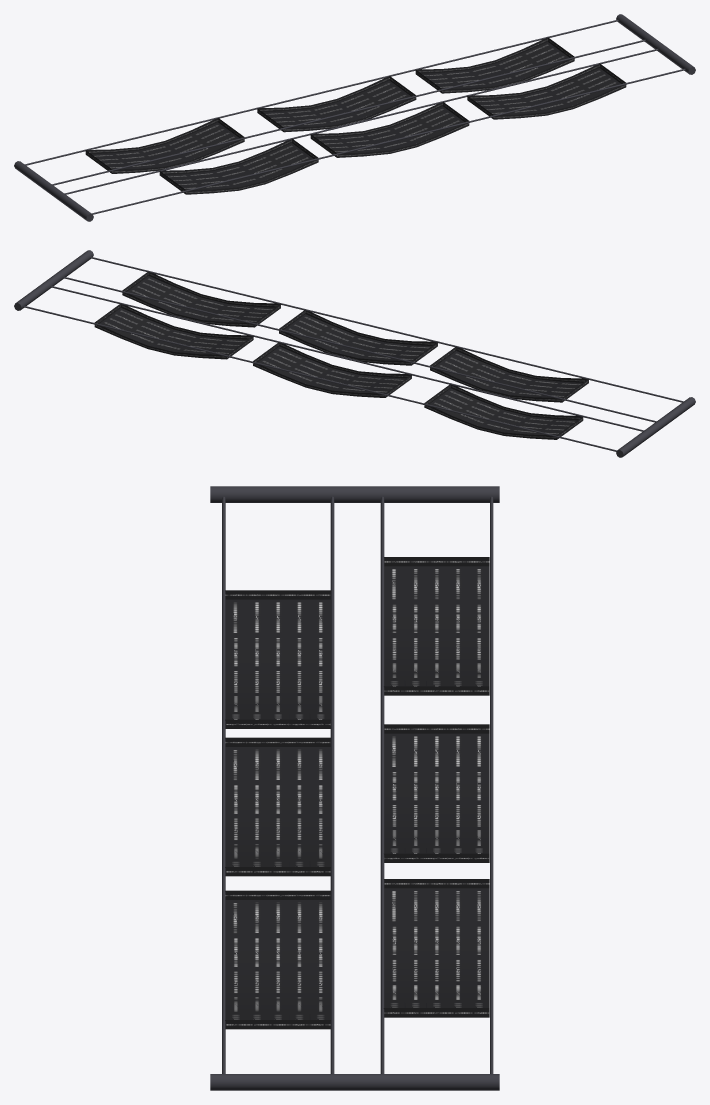
The model's file is Curtain.fbx.
The picture shows the model from 3 angles, top to bottom: view 1: azimuth 30°, elevation 25°; view 2: azimuth 150°, elevation 25°; view 3: azimuth 270°, elevation 25°; orthographic projection. The views are drawn at different scales.
Parts seen in each view (by area): view 1: curtain!0, curtain 9, curtain 4, curtain 8, curtain 6, curtain 7, small bar 4, small bar 2, small bar 3, small bar 1, bar 2, bar 1; view 2: curtain 8, curtain 7, curtain 6, curtain 9, curtain!0, curtain 4, small bar 1, small bar 3, small bar 4, small bar 2, bar 2, bar 1; view 3: curtain 4, curtain 9, curtain 6, curtain 7, curtain 8, curtain!0, bar 1, bar 2, small bar 2, small bar 3, small bar 1, small bar 4.
Boxes of the visible parts, box(x1,y1,x2,y2) form: curtain!0: box(159, 138, 318, 194); curtain 9: box(310, 101, 469, 157); curtain 4: box(467, 63, 626, 119); curtain 8: box(85, 118, 244, 173); curtain 6: box(415, 37, 574, 93); curtain 7: box(257, 76, 416, 132); small bar 4: box(92, 68, 685, 214); small bar 2: box(52, 39, 645, 185); small bar 3: box(64, 48, 658, 194); small bar 1: box(25, 19, 618, 165); bar 2: box(14, 161, 93, 221); bar 1: box(616, 14, 695, 74); curtain 8: box(424, 384, 583, 439); curtain 7: box(253, 342, 411, 397); curtain 6: box(94, 303, 253, 359); curtain 9: box(279, 309, 437, 365); curtain!0: box(430, 346, 588, 402); curtain 4: box(122, 271, 280, 327); small bar 1: box(23, 305, 616, 451); small bar 3: box(63, 276, 656, 422); small bar 4: box(90, 256, 683, 402); small bar 2: box(50, 285, 643, 431); bar 2: box(616, 397, 695, 457); bar 1: box(14, 250, 93, 310); curtain 4: box(225, 890, 330, 1029); curtain 9: box(225, 737, 330, 876); curtain 6: box(383, 879, 489, 1017); curtain 7: box(384, 724, 489, 862); curtain 8: box(384, 557, 489, 695); curtain!0: box(225, 590, 330, 728); bar 1: box(210, 1074, 499, 1090); bar 2: box(210, 486, 499, 502); small bar 2: box(380, 496, 384, 1073); small bar 3: box(330, 496, 334, 1073); small bar 1: box(490, 496, 493, 1073); small bar 4: box(222, 496, 225, 1073).
Bounding box in the file's own units: 25.06 × 0.6601 × 5.15.
